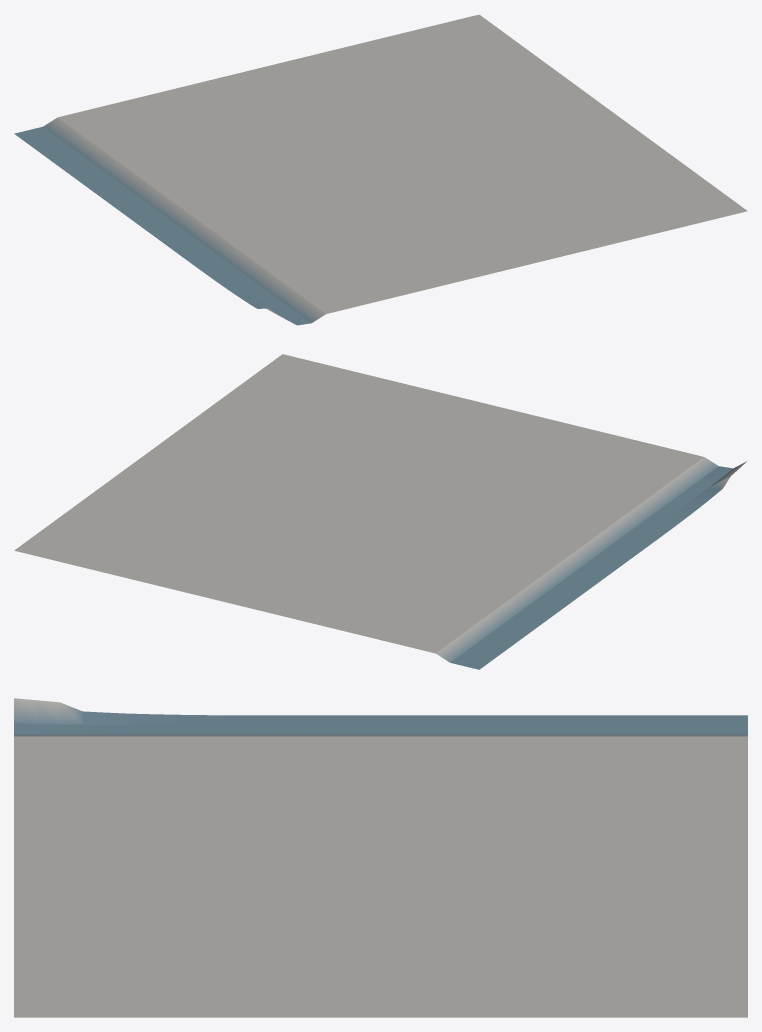
File: tile_9_-5.glb
3 views of the same model, one above another, from view 1: azimuth 30°, elevation 25°; view 2: azimuth 150°, elevation 25°; view 3: azimuth 270°, elevation 25° (orthographic). The views are drawn at different scales.
Visible parts, largest first — view 1: terrain; view 2: terrain; view 3: terrain.
Part boxes in pixels (x1,y1,x2,y2): terrain: [14, 14, 747, 325]; terrain: [14, 354, 746, 669]; terrain: [14, 698, 747, 1017].
Size of the model in its own units: 256 by 6.63 by 256.
